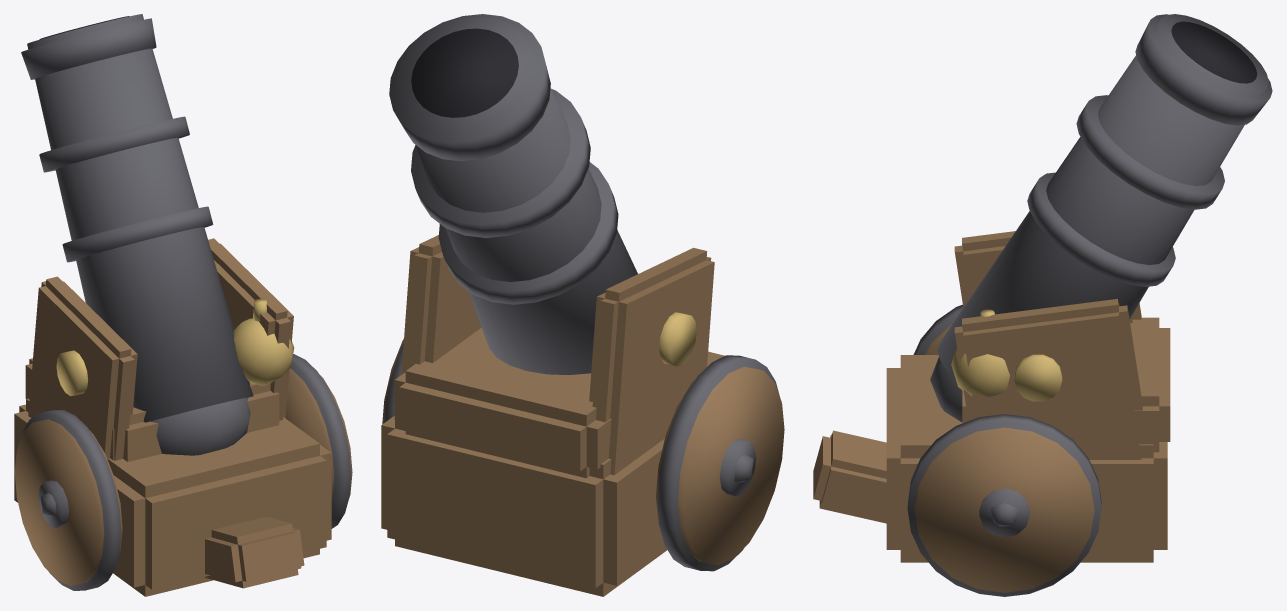
The model's file is mortar.glb.
3 renders of one model, left to right at view 1: azimuth 30°, elevation 25°; view 2: azimuth 150°, elevation 25°; view 3: azimuth 270°, elevation 25°, orthographic. The views are drawn at different scales.
Parts seen in each view (by area): view 1: iron, wood, brass; view 2: wood, iron, bore, brass; view 3: wood, iron, brass, bore.
Boxes of the visible parts, x1,y1,x2,y2 form: iron: (19,14,351,590); wood: (14,238,352,596); brass: (56,298,294,396); wood: (381,235,784,596); iron: (384,14,779,571); bore: (411,28,518,117); brass: (659,312,696,366); wood: (813,231,1170,592); iron: (907,14,1272,596); brass: (951,309,1062,401); bore: (1171,21,1257,83).
Size of the model in its own units: 1.23 by 2 by 1.63.
